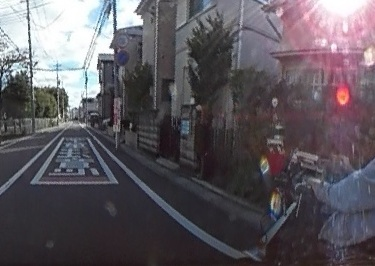person: (296, 67, 375, 249)
